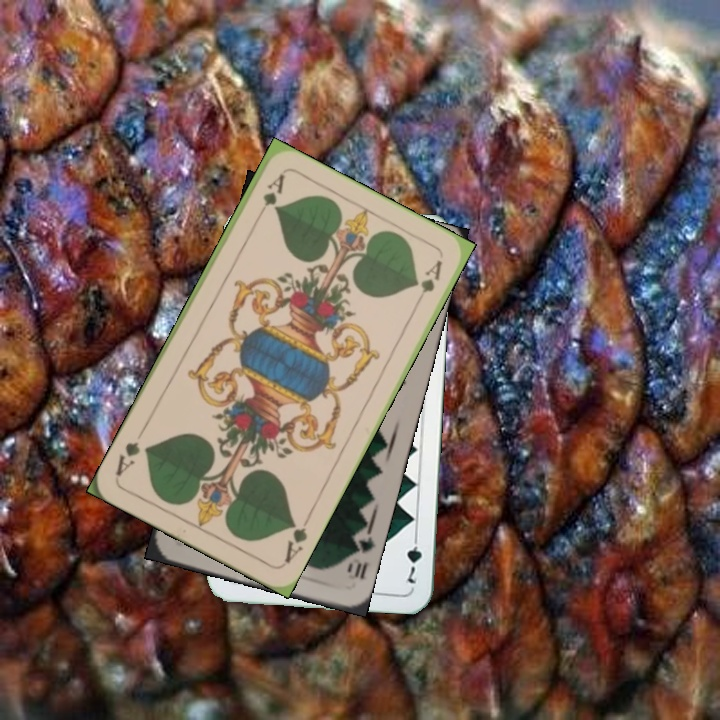G10: (343, 526, 377, 582)
G7: (402, 529, 425, 586)
GA: (253, 169, 287, 224), (280, 512, 313, 566)
